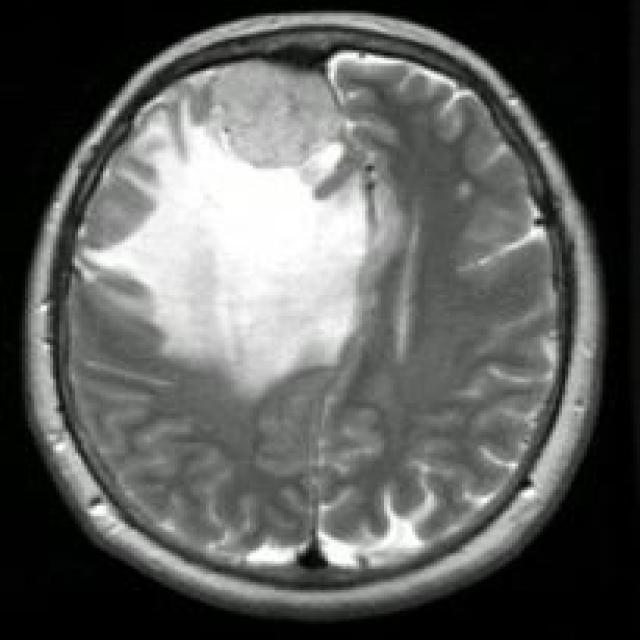Tumor-Cell: (117, 110, 382, 370)
